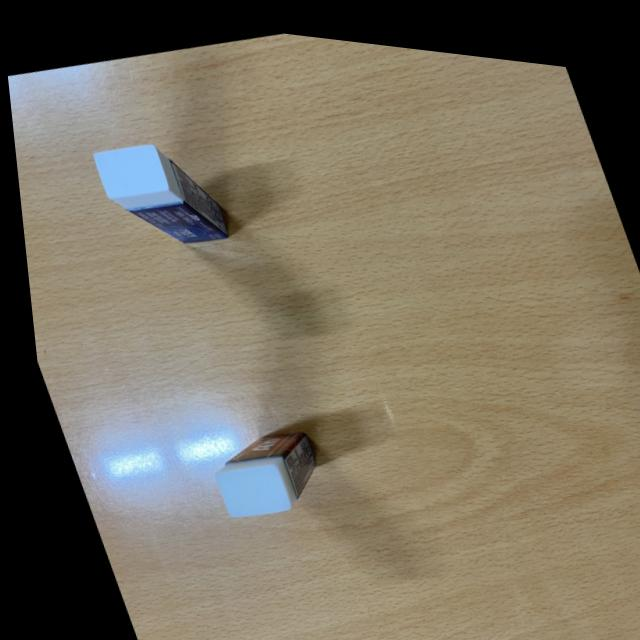blue: (78, 110, 239, 265)
red: (182, 401, 331, 531)
